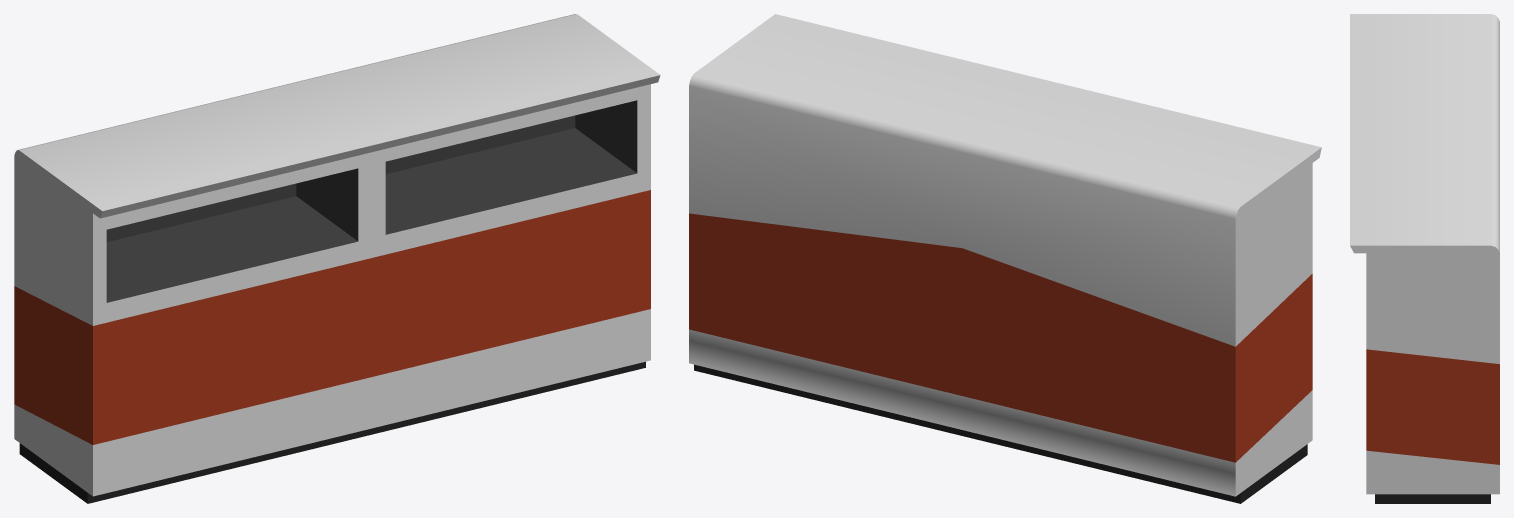
Rendered from desk_8.glb.
The picture shows the model from 3 angles, left to right: view 1: azimuth 30°, elevation 25°; view 2: azimuth 150°, elevation 25°; view 3: azimuth 270°, elevation 25°; orthographic projection. The views are drawn at different scales.
Visible parts, largest first — view 1: Desk_2; view 2: Desk_2; view 3: Desk_2.
Boxes of the visible parts, left/top/right/bottom form: Desk_2: left=14, top=14, right=660, bottom=503; Desk_2: left=689, top=14, right=1321, bottom=503; Desk_2: left=1350, top=14, right=1499, bottom=503.
Size of the model in its own units: 2 by 1.04 by 0.5467.
1 material, 1 textured.
